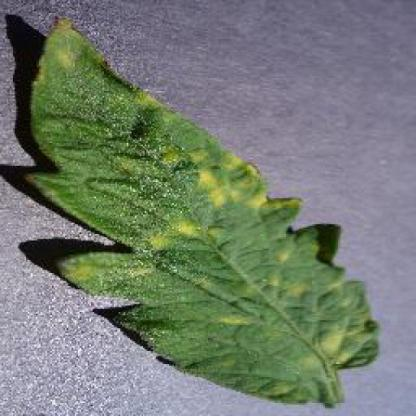Tomato_Leaf_Mold: (25, 19, 376, 404)
